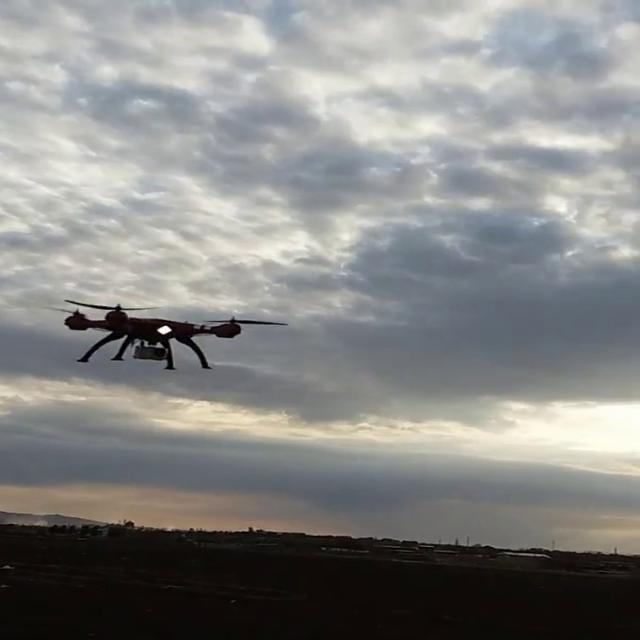drone: (53, 298, 287, 370)
